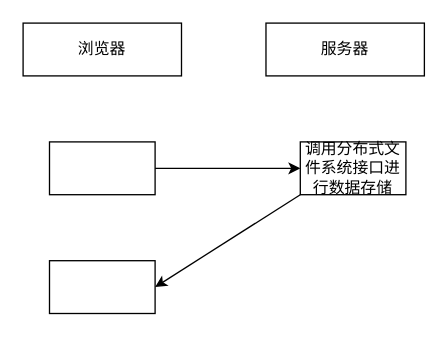
Image size: 447x337. Some labels were removed from this diagram. The shapes that lost their labels are listed below. From the top down, each one's centre as x and y in pixels, then its label:
At point 101,168: "点击上传或下载".
At point 101,286: "返回成功或失败提示".
